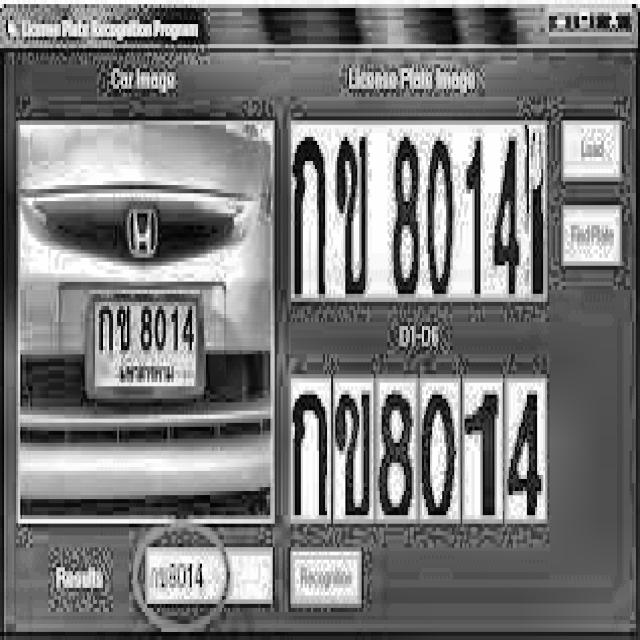license-plate: (84, 282, 208, 400)
